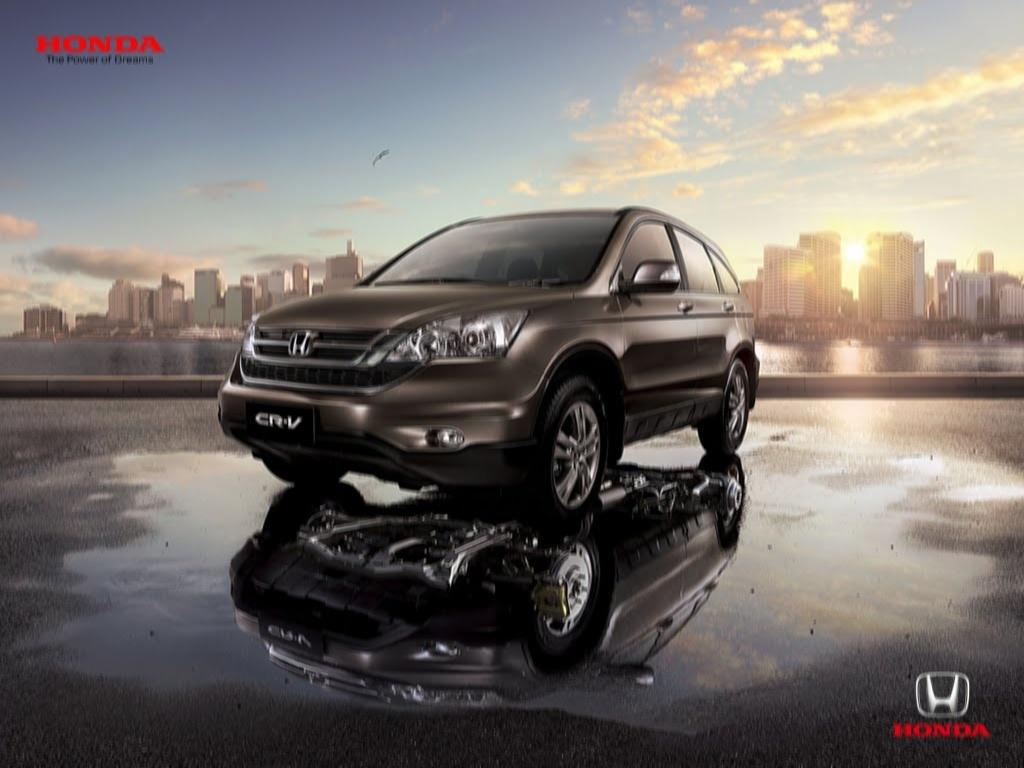Car hood: (252, 277, 577, 333)
Fender - -F-L-: (504, 277, 629, 434)
Fender - -R-L-: (738, 293, 760, 367)
Front bumper: (208, 353, 554, 495)
Headlight - -L-: (380, 303, 532, 369)
Headlight - -R-: (235, 305, 266, 363)
Passenger-s door - -F-L-: (622, 210, 695, 433)
Passenger-s door - -R-L-: (681, 210, 745, 431)
Rear bumper: (743, 357, 771, 411)
Side bumper - -L-: (617, 389, 728, 450)
Side mirror - -L-: (613, 256, 685, 305)
